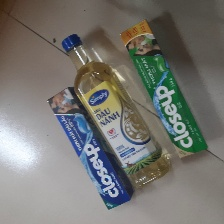CloseUp Tuyet: (47, 87, 134, 212)
CloseUp Xanh: (121, 20, 209, 160)
Simply: (61, 34, 172, 188)
